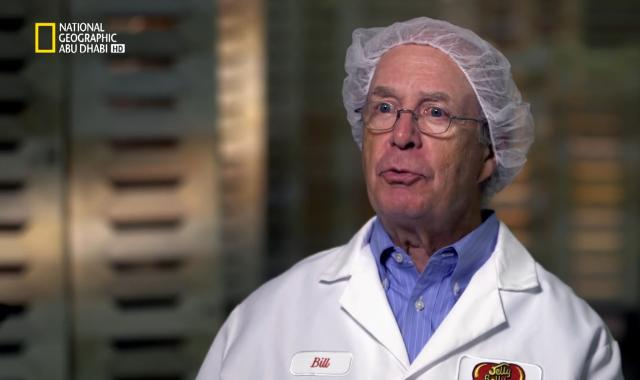hairnet: (338, 22, 532, 188)
